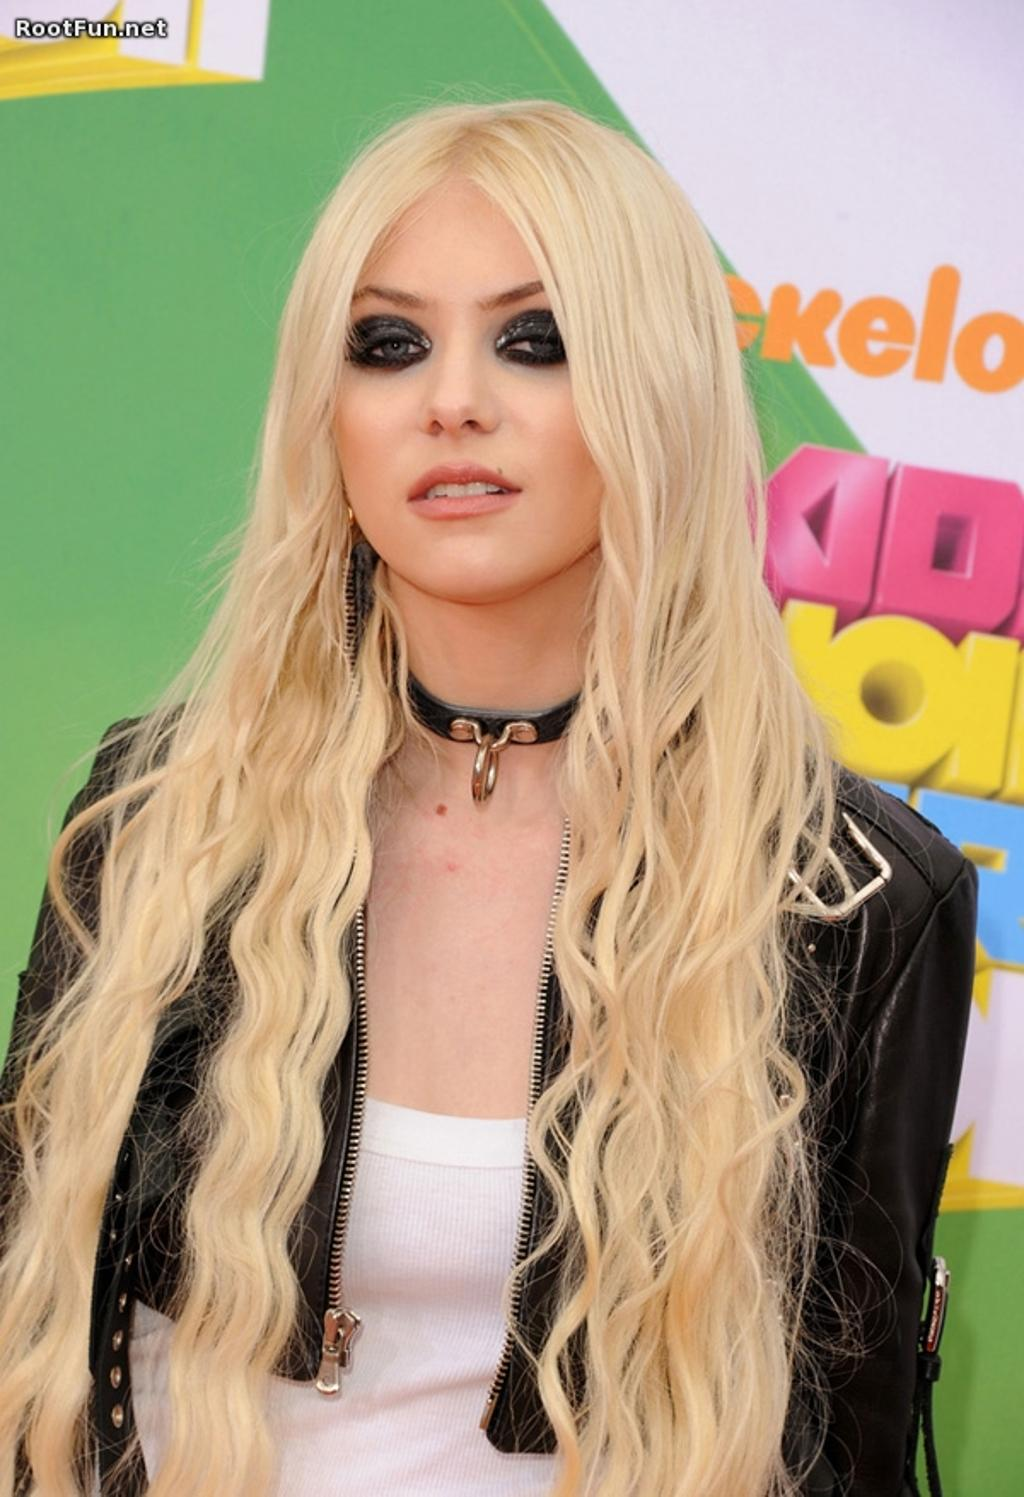face: (331, 187, 632, 591)
